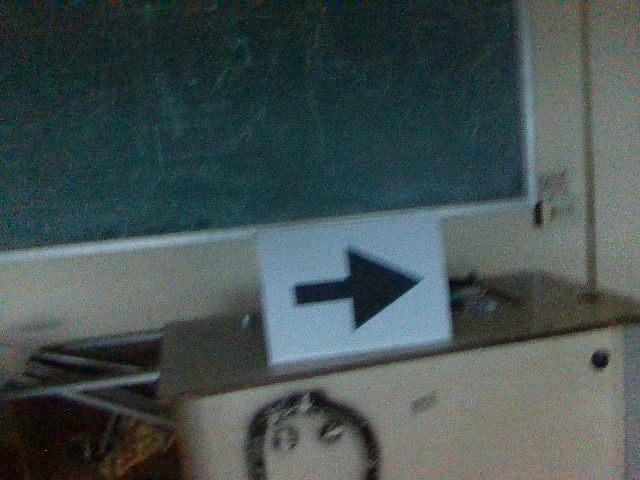Right: (282, 240, 427, 330)
